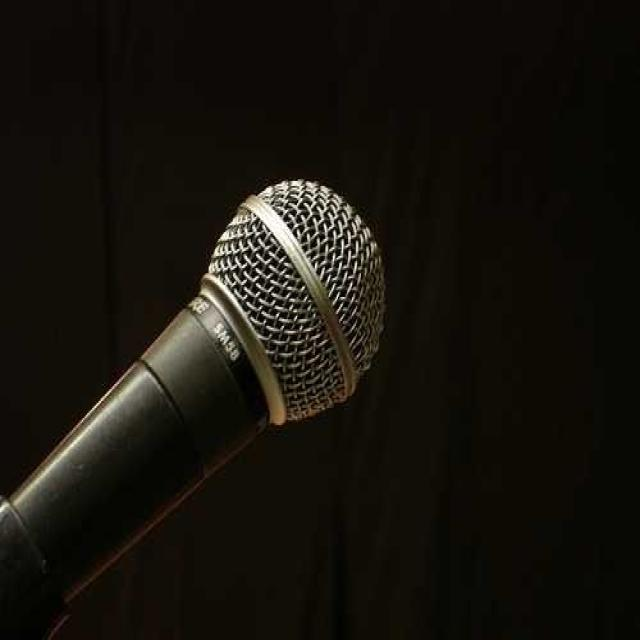microphone: (2, 173, 380, 636)
